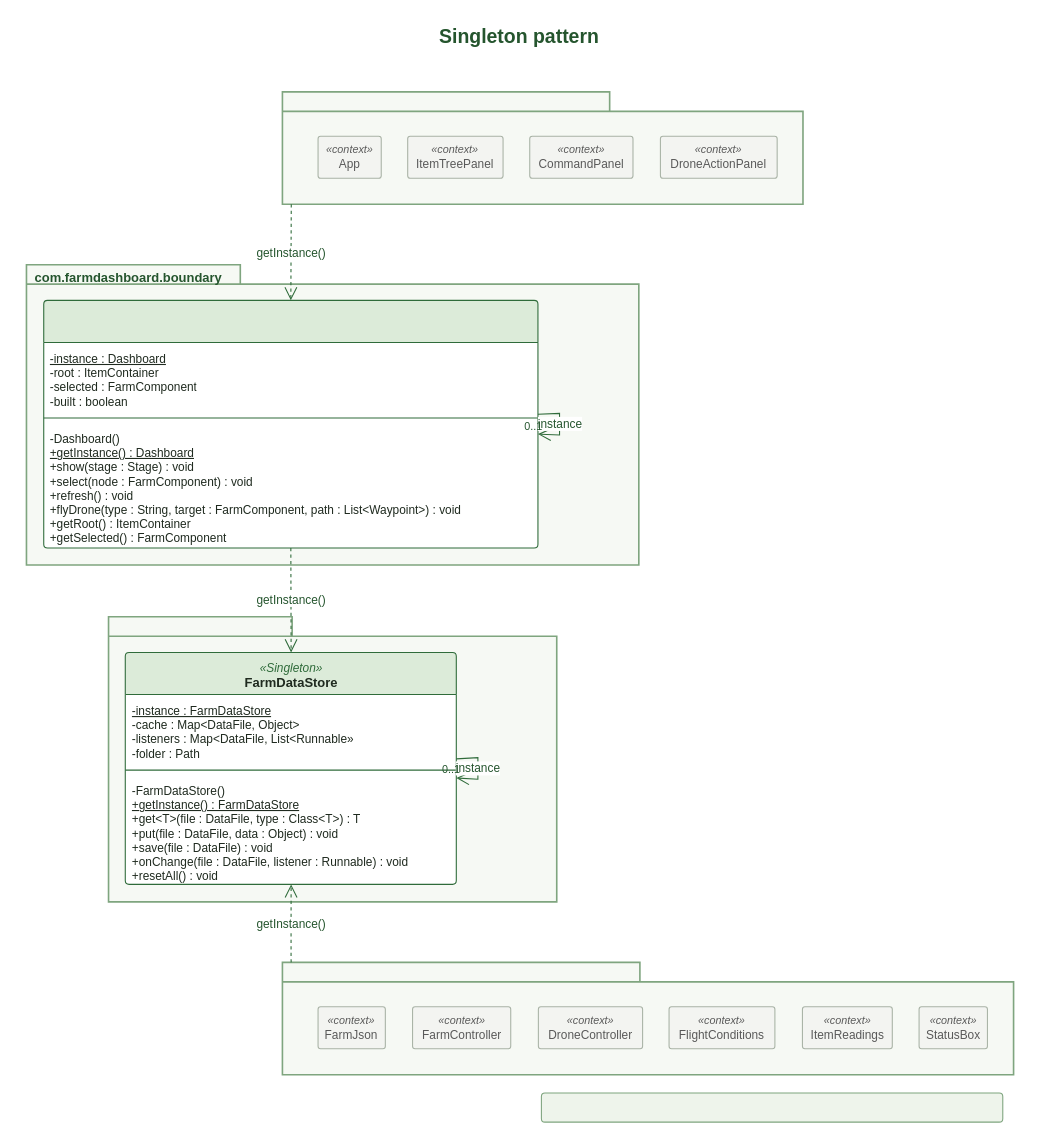
The diagram is 1038 pixels wide and 1140 high, and some of its shapes have lost their labels. The shapes that lost their labels are listed below. From the top down, each one's box as (x1, y1, x2, y2) in pixels, then its label:
(281, 91, 803, 205): Classes that call Dashboard.getInstance()
(43, 299, 538, 548): «Singleton» Dashboard
(107, 615, 557, 902): com.farmdashboard.data
(281, 961, 1014, 1075): Classes that call FarmDataStore.getInstance()
(540, 1092, 1003, 1122): Gray = classes that reach the Singleton through getInstance()
